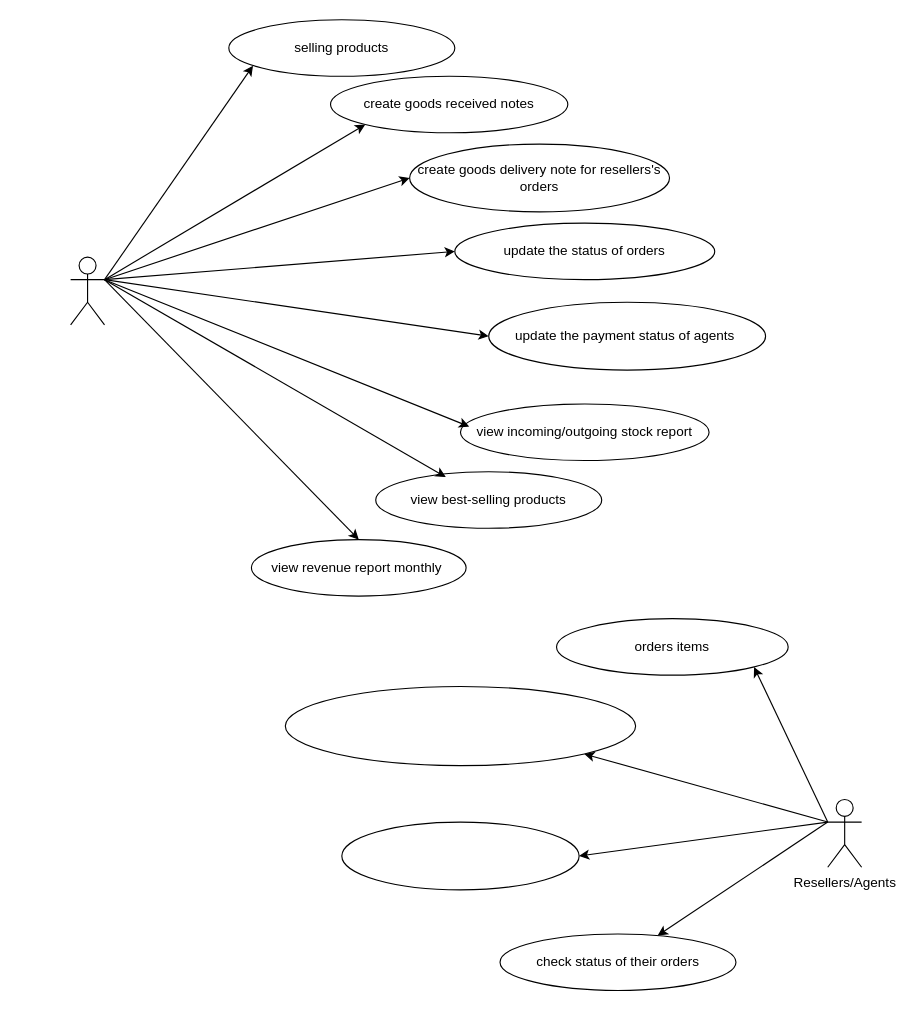
Image size: 915x1010. Some labels were removed from this diagram. The centre of each missing label's shape, as x and y in pixels:
"choose a payment method ( cash, bank transfer, mono, QR code, ...)" goes at pixel 460 725.
"Distributor/ Accountant" goes at pixel 87 290.
"make an online payment" goes at pixel 460 855.
